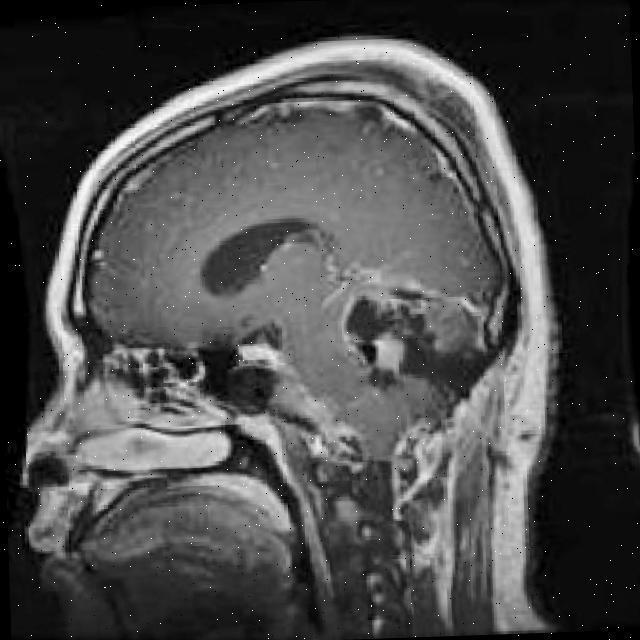MCI: (293, 278, 462, 381)
